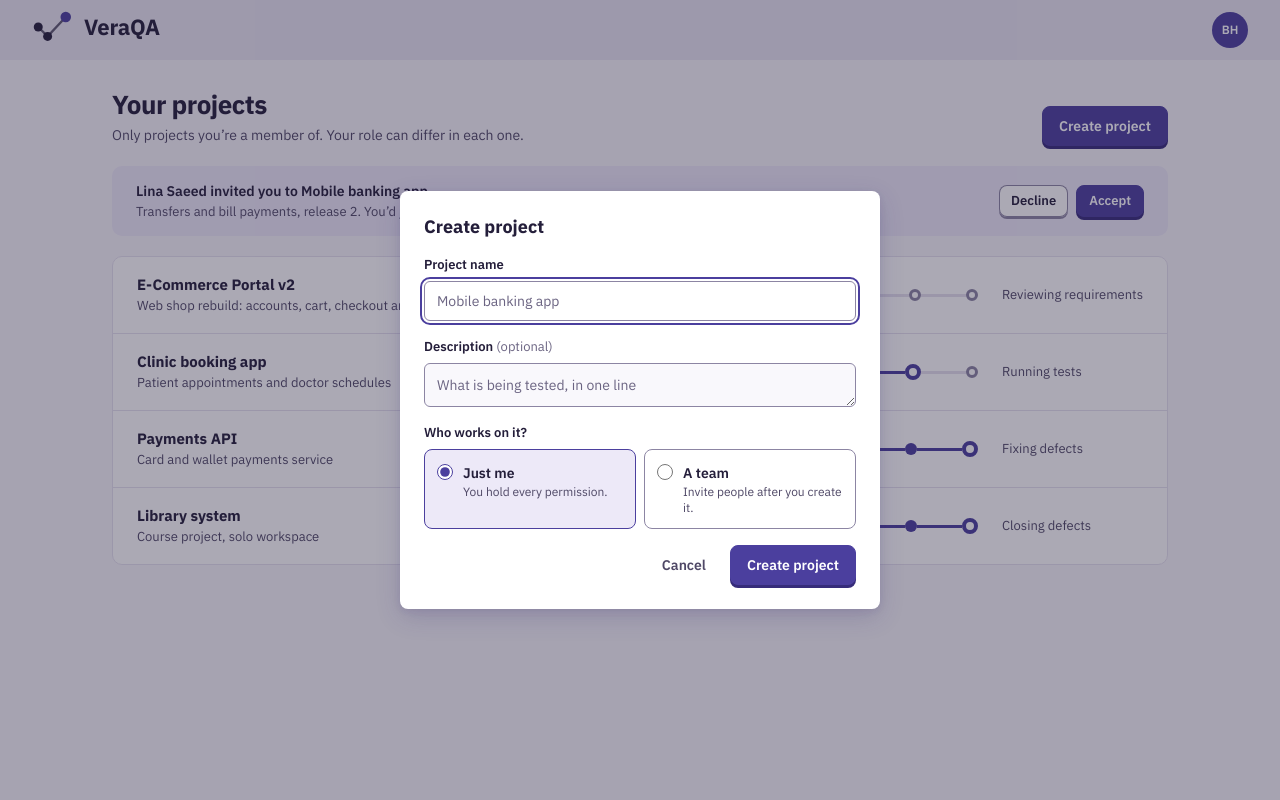
Test: Create project › offers Invite people for a team project, then opens its dashboard
Earlier steps of the test are not shown.
In the field labelled "Project name": (640, 301) [424,281,856,321], type "Clinic portal"
Click the radio button labelled "A team": click(665, 472) [657,464,673,480]
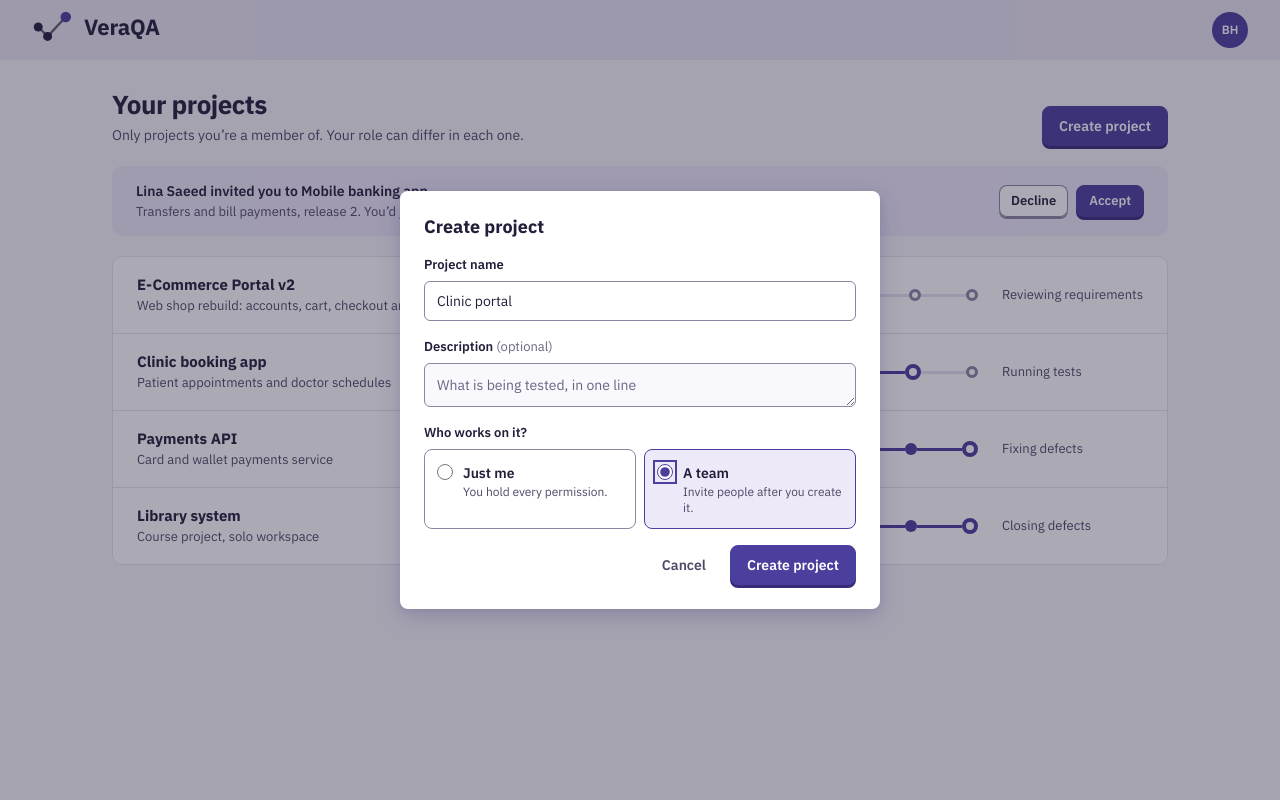
Click the button "Create project": click(793, 565) [730,545,856,585]
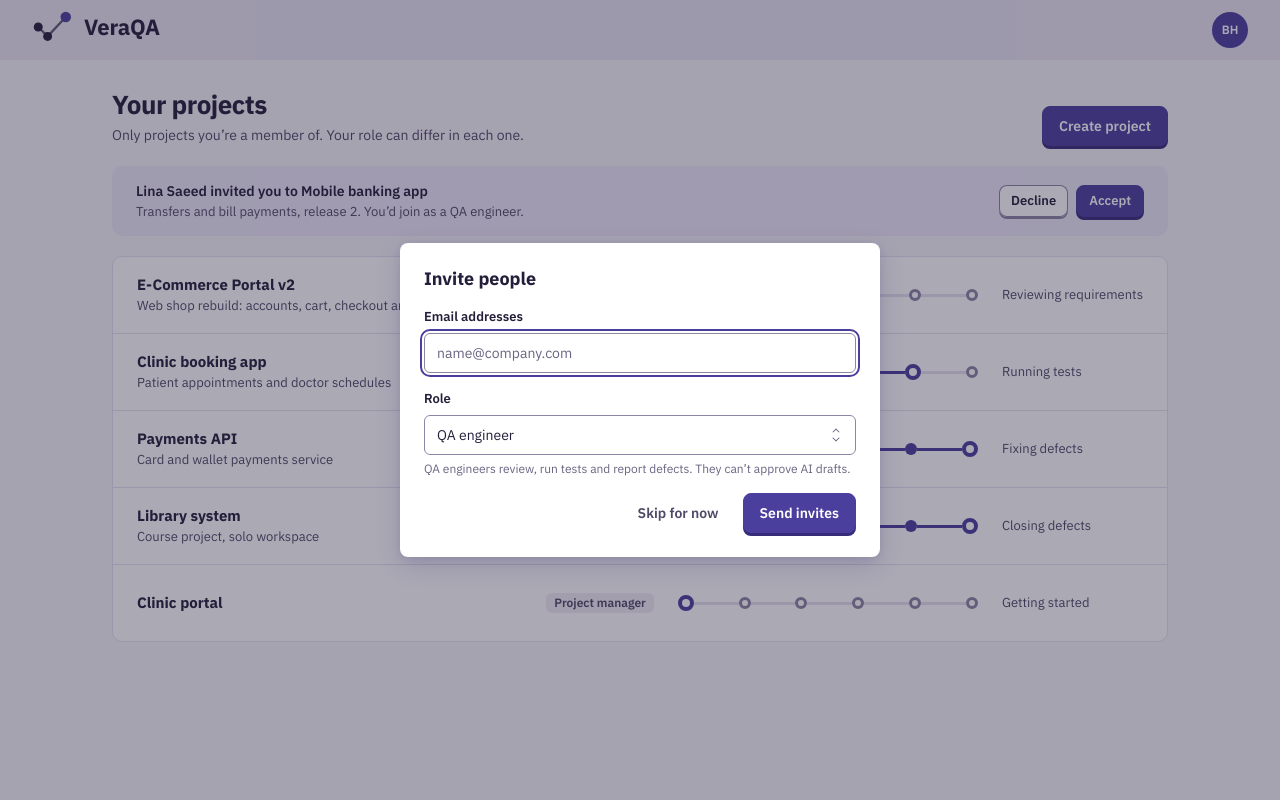
In the field labelled "Email addresses": (640, 353) [424,333,856,373], type "sami@shop, x"
Click the button "Send invites": click(799, 513) [743,493,856,533]
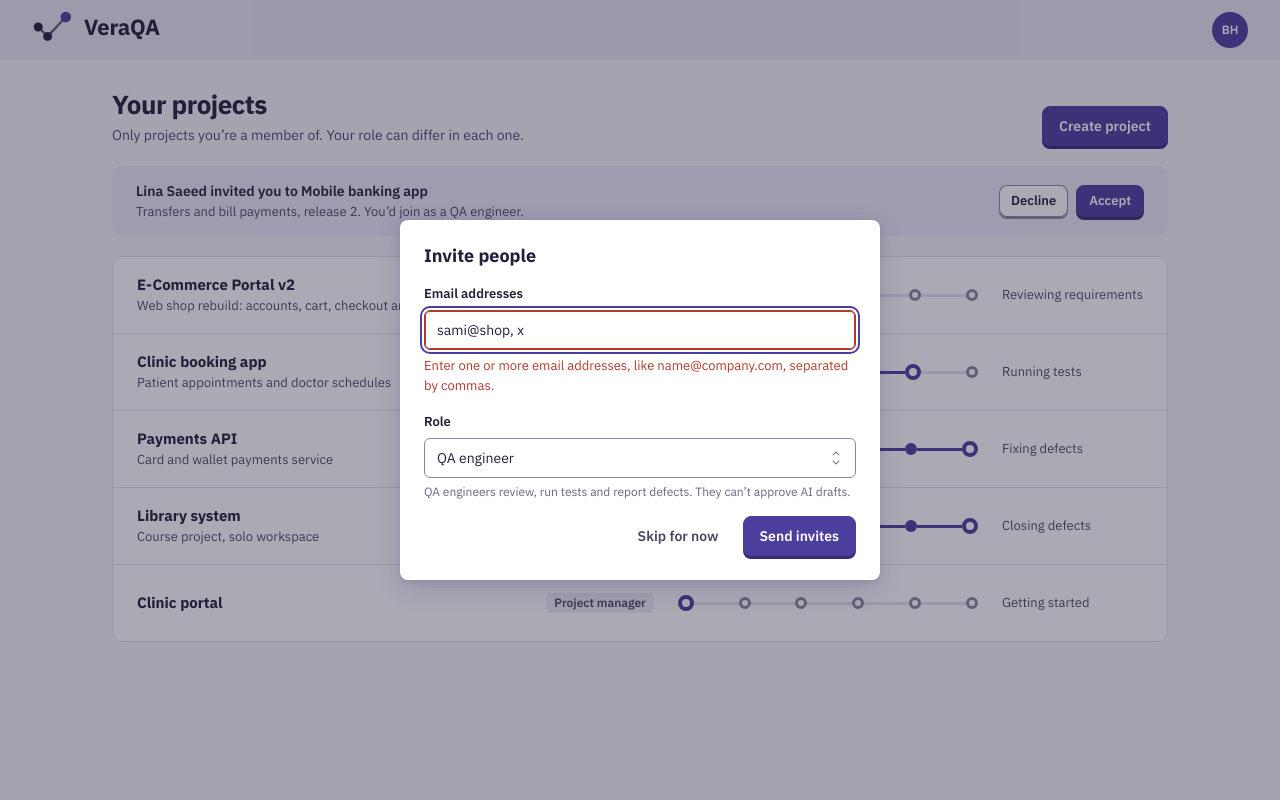
Replace the text in the field labelled "Email addresses" with "sami.odeh@shop-team.com, rana.f@shop-team.com": (640, 330) [424,310,856,350]
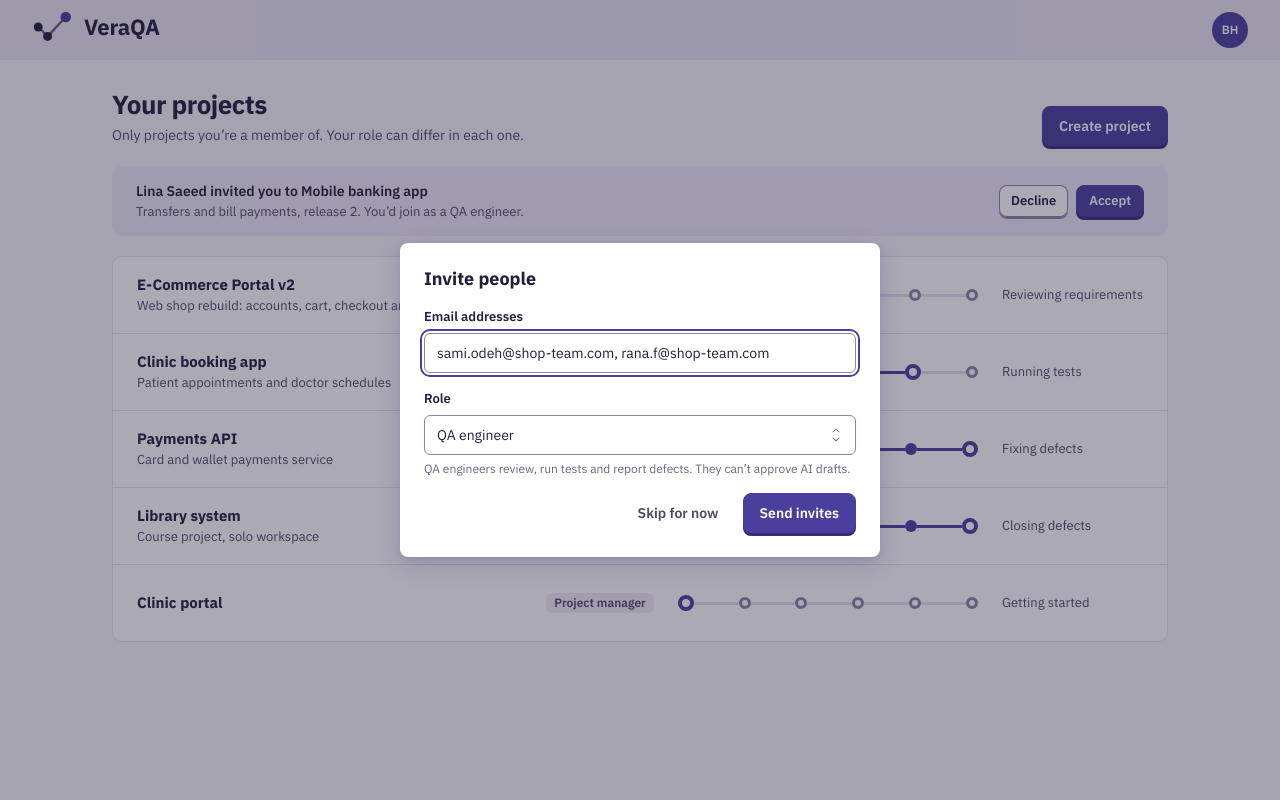
Select "Developer" in the dropdown labelled "Role": (640, 435) [424,415,856,455]
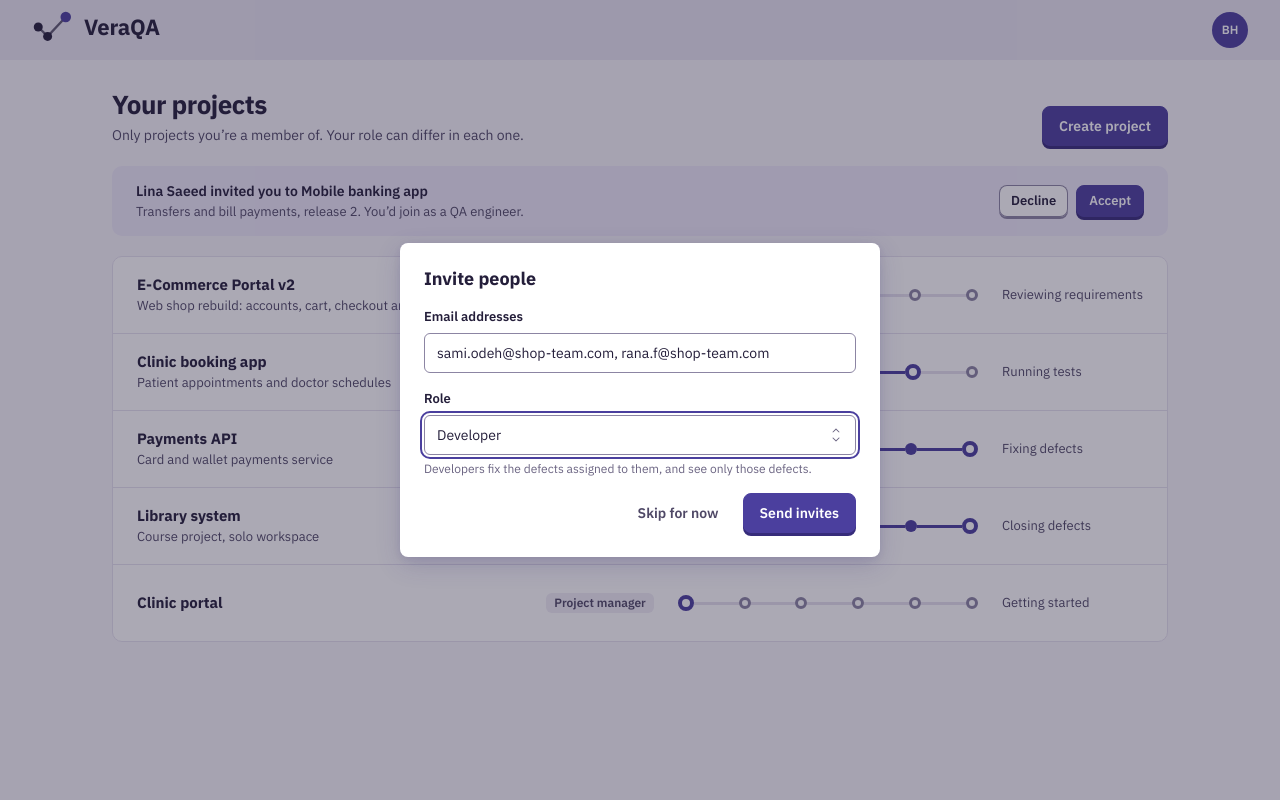
Click the button "Send invites": click(799, 513) [743,493,856,533]
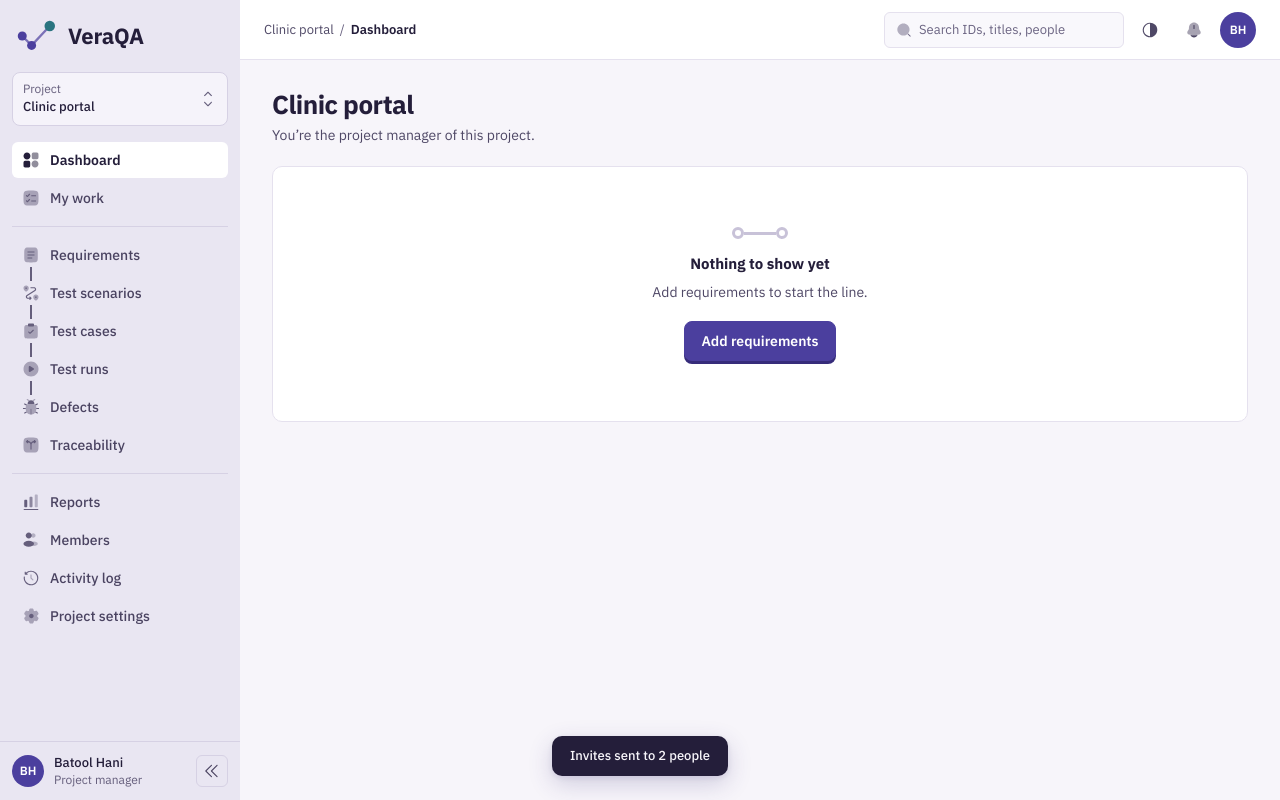
Expected: the text "Invites sent to 2 people" is shown, [570,746,710,766]
